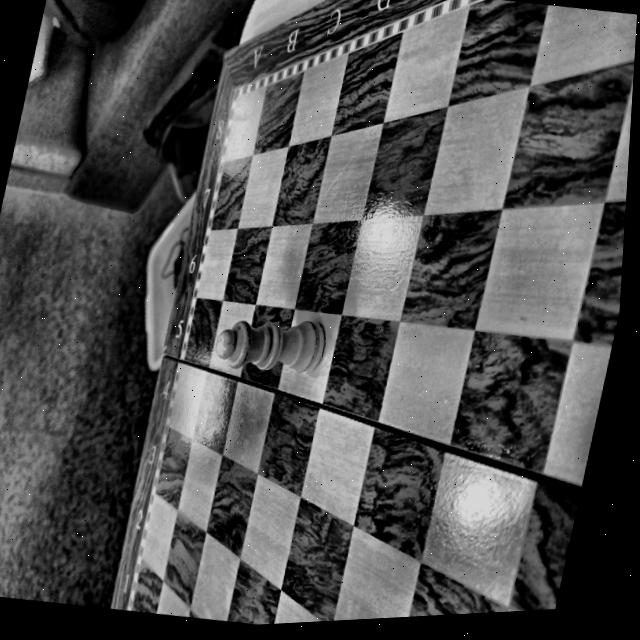white-queen: (217, 320, 325, 372)
